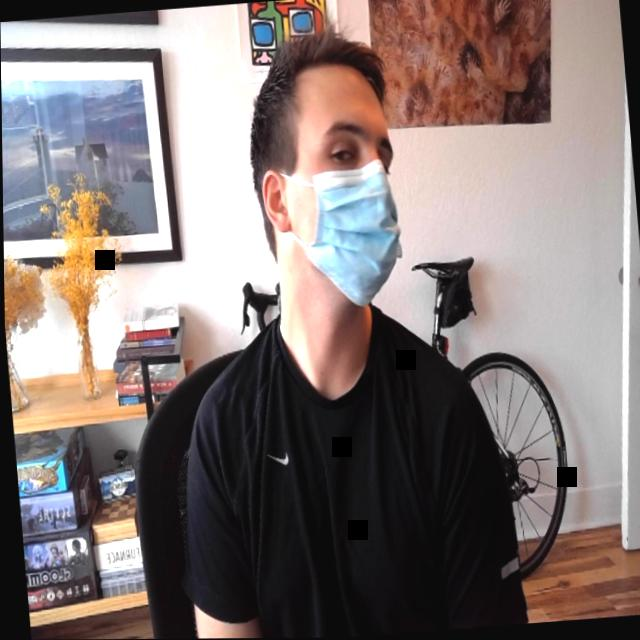Mask: (272, 63, 408, 313)
